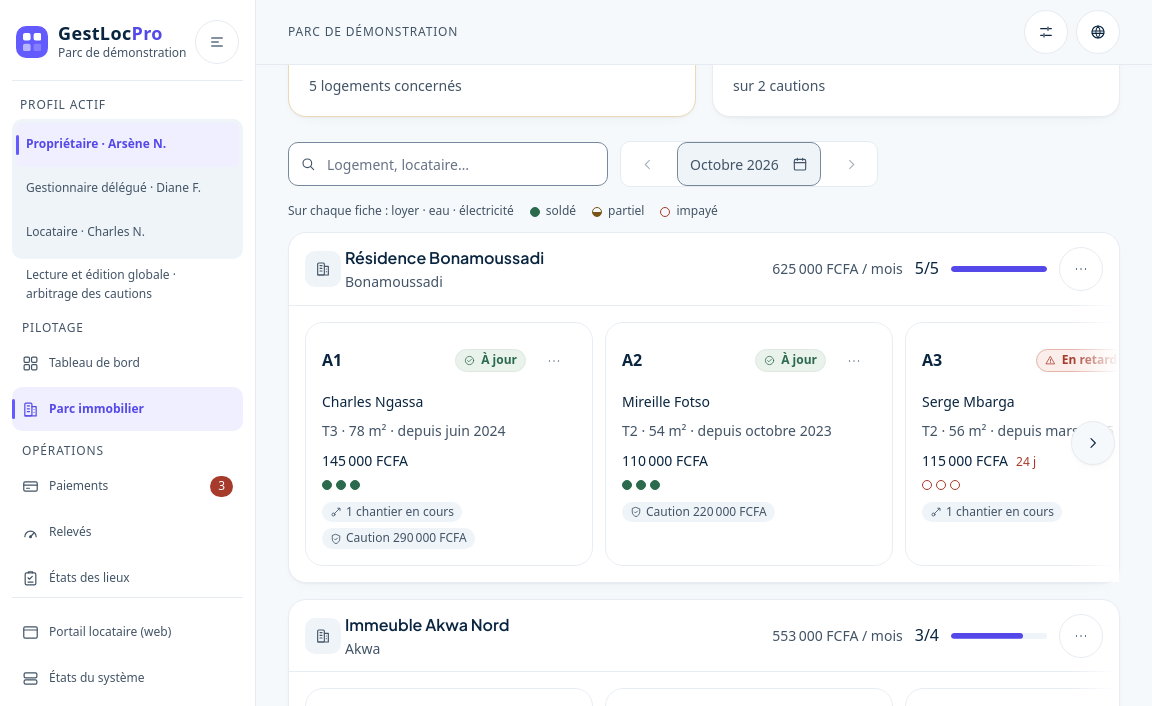
Test case: le menu d’une fiche de logement › ne dit « Déplacer » qu’une fois, pour deux cibles
(page scrolled)
Click the button named "Actions du logement A1".
click(554, 360)  # box [532,338,576,382]
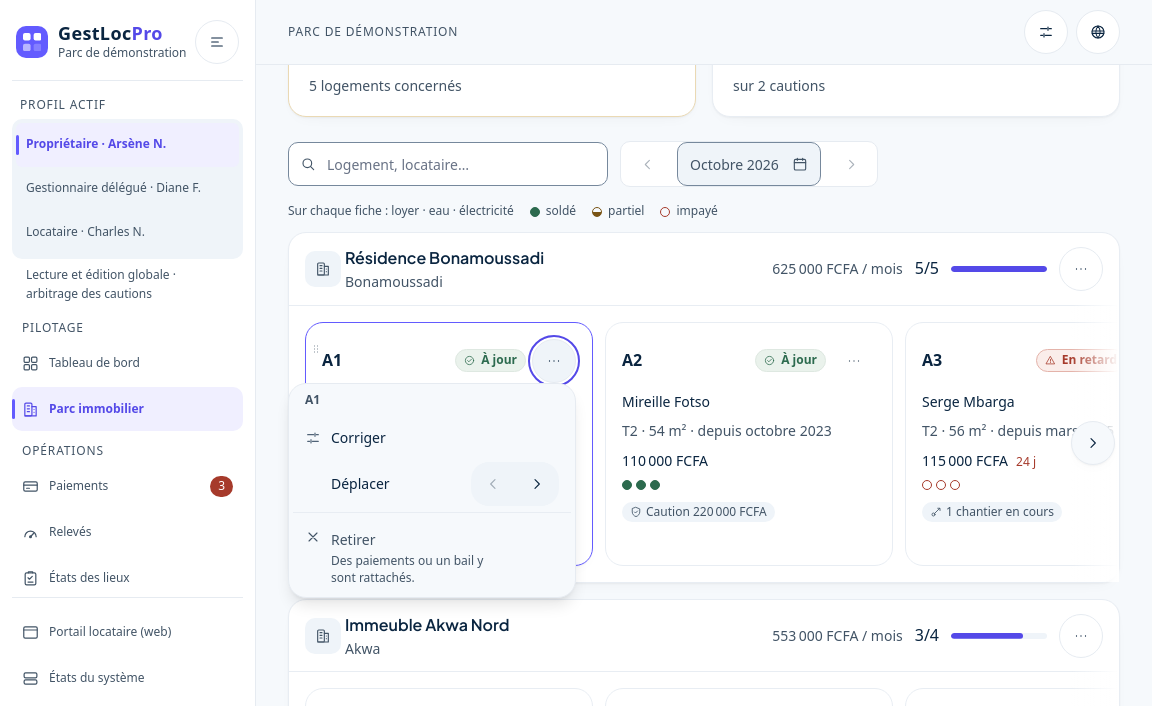
Result: the text "Déplacer" is shown at [331,474,390,494]
Result: the menu item named "gauche" is shown at [471,462,515,506]
Result: the menu item named "droite" is shown at [515,462,559,506]
